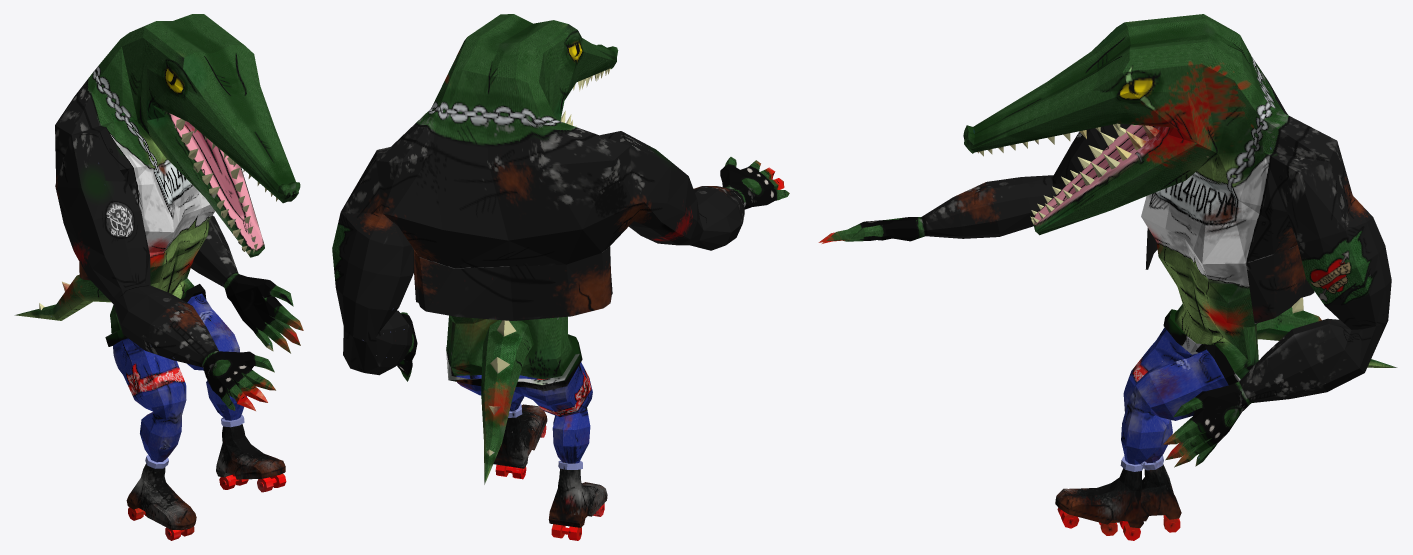
Rendered from cocodrilaBonesSelect_000006.obj.
3 views of the same model, side by side, from view 1: azimuth 30°, elevation 25°; view 2: azimuth 150°, elevation 25°; view 3: azimuth 270°, elevation 25° (orthographic). The views are drawn at different scales.
Parts seen in each view (by area): view 1: Crocodile.002_Cylinder.002; view 2: Crocodile.002_Cylinder.002; view 3: Crocodile.002_Cylinder.002.
Boxes of the visible parts, box(x1,y1,x2,y2) form: Crocodile.002_Cylinder.002: box(14, 14, 303, 540); Crocodile.002_Cylinder.002: box(332, 14, 789, 540); Crocodile.002_Cylinder.002: box(818, 14, 1397, 540).
Bounding box in the file's own units: 3.45 × 6.35 × 6.39.
